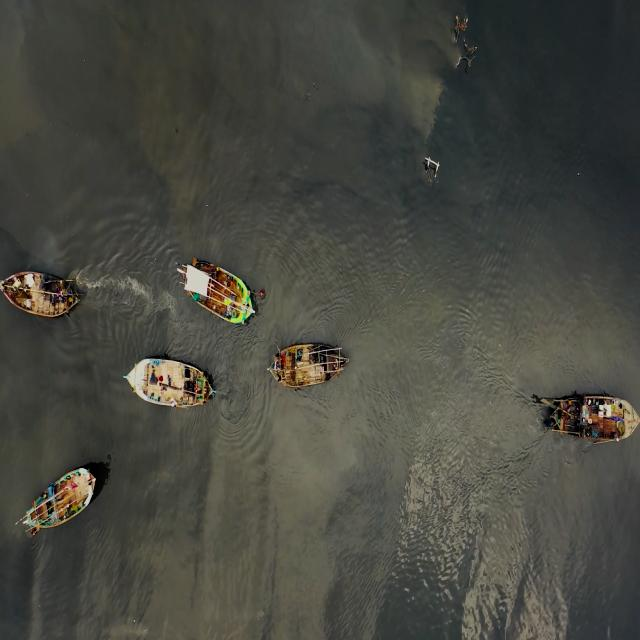ship: (13, 465, 97, 545), (179, 257, 257, 332), (117, 356, 218, 411), (267, 334, 349, 388), (0, 270, 84, 322), (526, 392, 640, 430)
